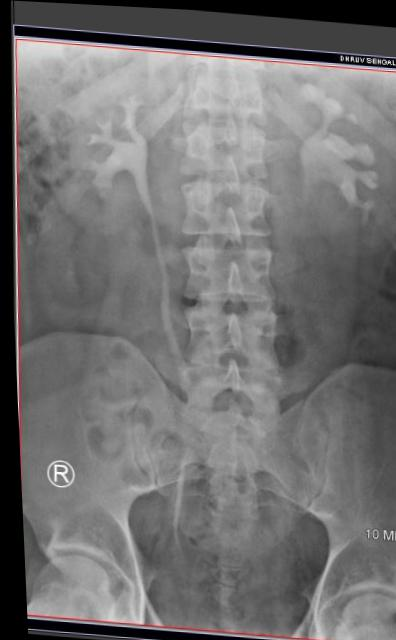left kidney: (280, 36, 395, 245)
right kidney: (34, 38, 159, 233)
vertebrae: (167, 91, 269, 153)
